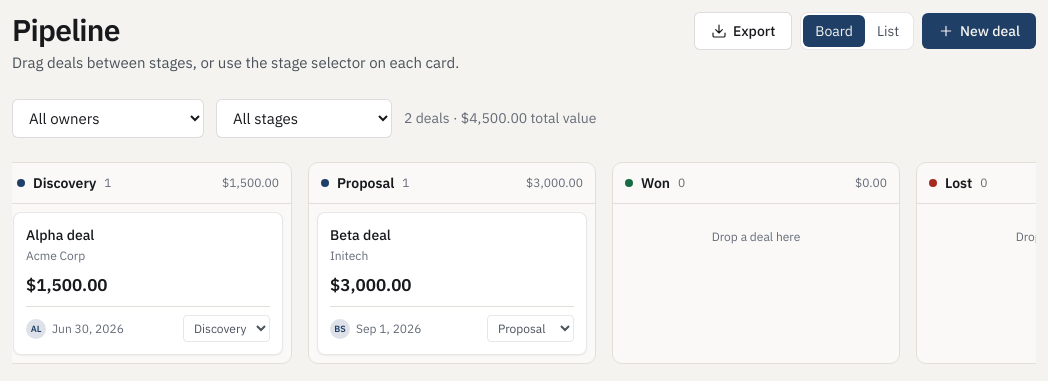
Test case: PipelinePage › filters › filters by stage
Expected: the text "Alpha deal" is shown, [26,226,94,244]
Select "Proposal" in the dropdown named "Filter by stage": point(304, 118) [216,98,392,138]
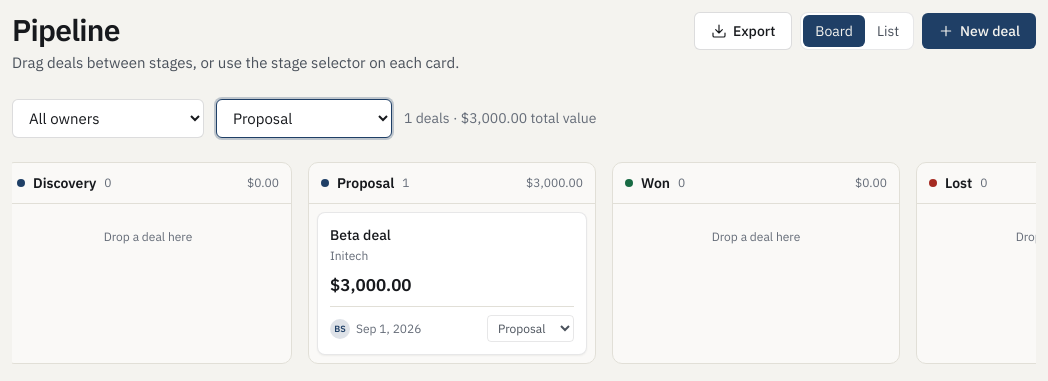
Expected: the text "Beta deal" is shown, [330,226,391,244]
Expected: the link "Alpha deal" is gone
